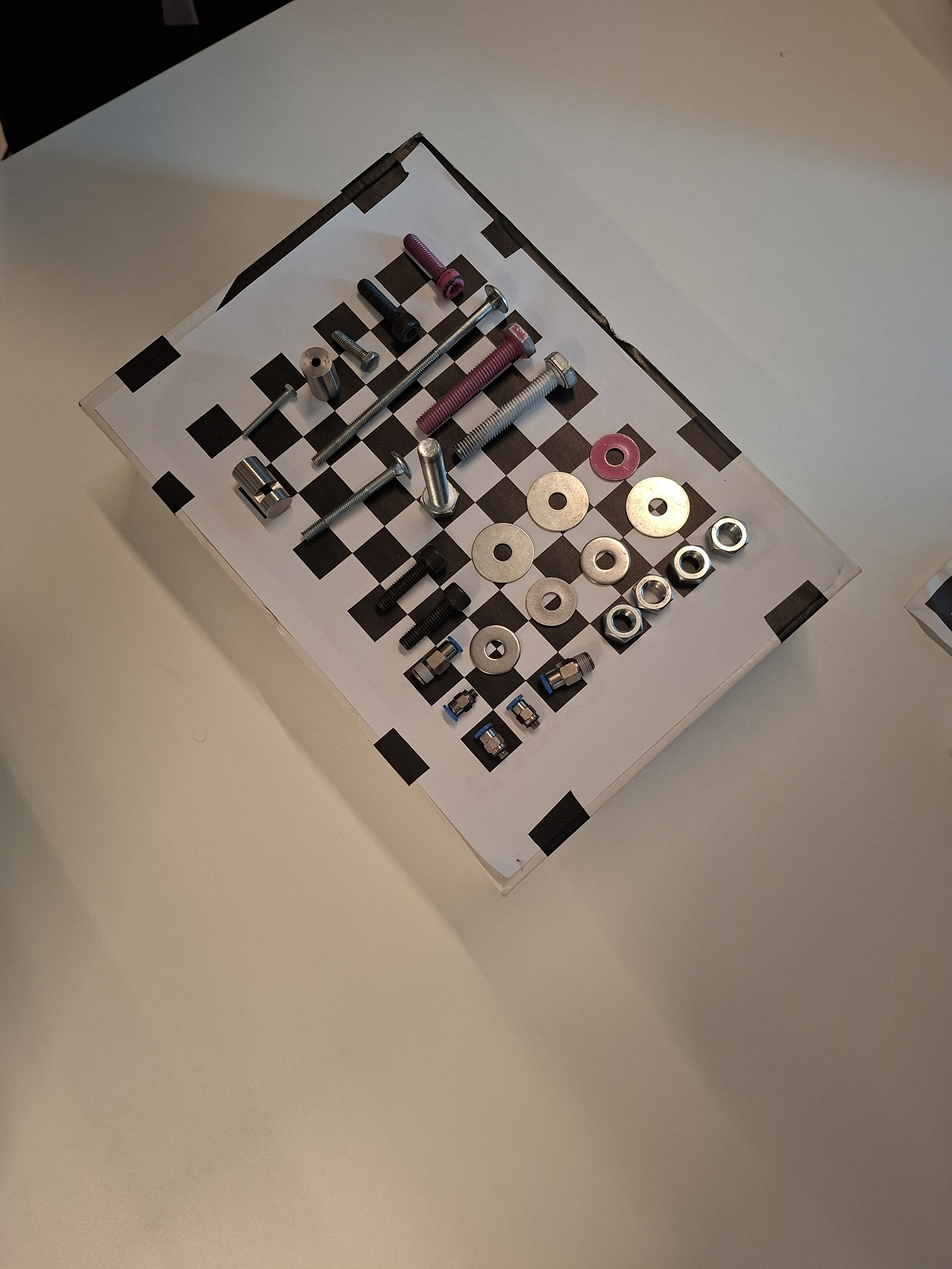allen_screw: (362, 534, 459, 628), (392, 577, 479, 660), (344, 268, 429, 352), (391, 224, 472, 307)
barrel_nut: (219, 450, 300, 533), (286, 339, 351, 409)
carriage_bolt: (303, 275, 518, 484), (290, 445, 421, 556)
hex_bolt: (443, 342, 584, 478), (405, 315, 542, 447), (235, 378, 305, 446), (414, 435, 464, 523), (323, 321, 389, 380)
hex_nut: (595, 595, 651, 651), (699, 509, 755, 564), (626, 569, 683, 617), (666, 541, 713, 587)
pneumatic_fitting: (402, 630, 473, 697), (534, 643, 604, 701), (468, 719, 518, 772), (502, 690, 549, 738), (438, 681, 486, 727)
washer: (466, 519, 536, 587), (622, 475, 693, 542), (519, 470, 591, 536), (575, 533, 634, 591), (585, 430, 647, 485), (467, 623, 525, 681), (521, 574, 579, 631)
